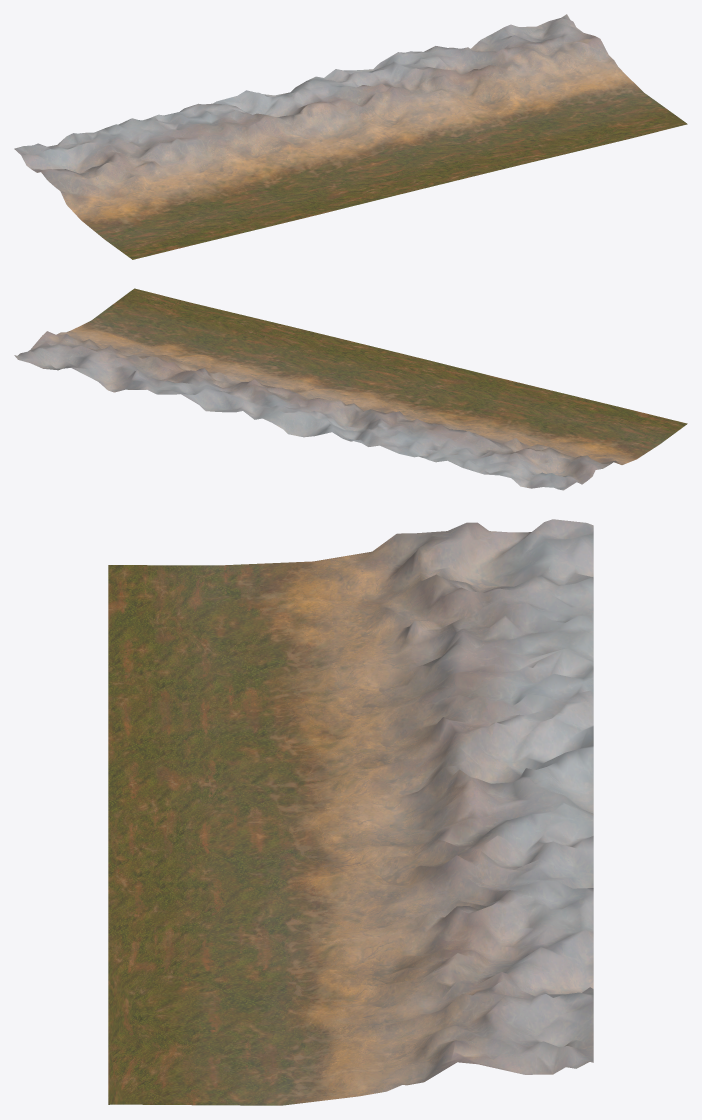
The model's file is terrain_backdrop_01_mesh_2000.glb.
The picture shows the model from 3 angles, top to bottom: view 1: azimuth 30°, elevation 25°; view 2: azimuth 150°, elevation 25°; view 3: azimuth 270°, elevation 25°; orthographic projection. The views are drawn at different scales.
Visible parts, largest first — view 1: terrain; view 2: terrain; view 3: terrain.
Part boxes in pixels (bbox=[...]): terrain: bbox=[14, 14, 687, 259]; terrain: bbox=[14, 288, 687, 490]; terrain: bbox=[108, 519, 593, 1105].
Size of the model in its own units: 480 by 21.22 by 182.
1 material, 1 textured.
